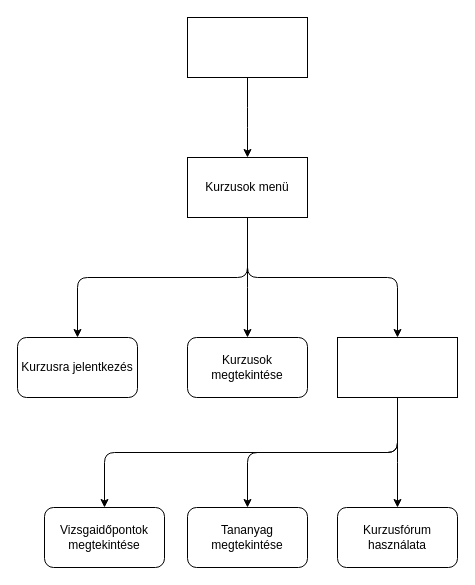
Some shapes in this 475 by 585 pixel diagram are drawn without their labels. Each missing label, with the centre of its shape:
Egy Kurzus menüje: pixel 397 367
Hallgató menü: pixel 247 47
